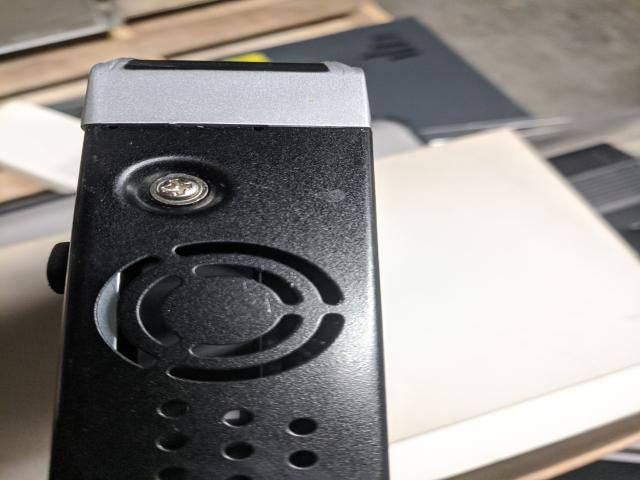CRS: (156, 178, 204, 201)
